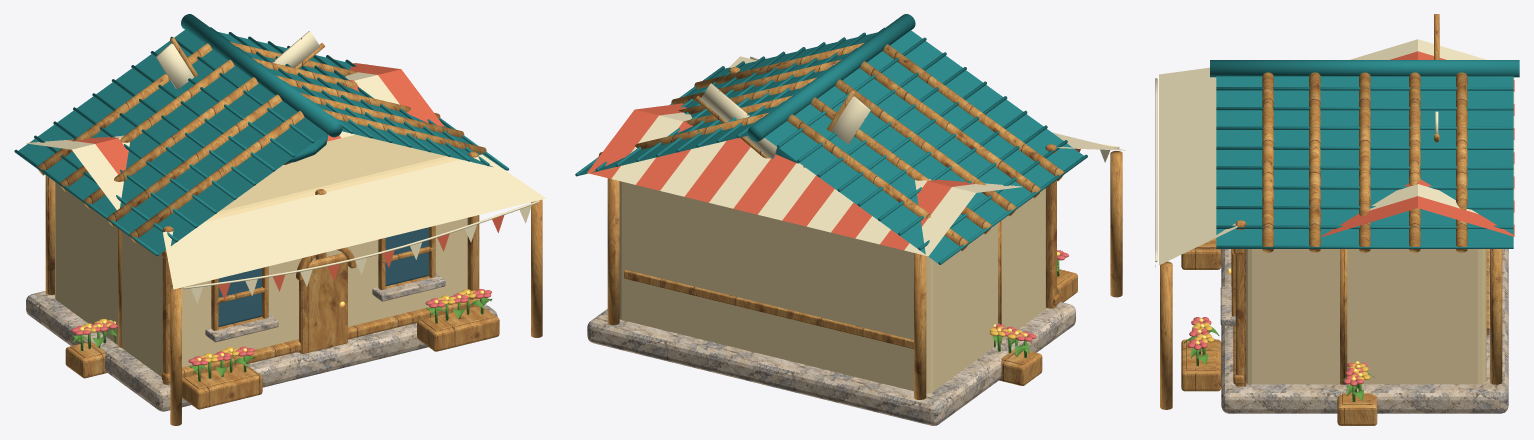
File: meadow-circuit-venues-v1.glb
3 views of the same model, side by side, from view 1: azimuth 30°, elevation 25°; view 2: azimuth 150°, elevation 25°; view 3: azimuth 270°, elevation 25° (orthographic). The views are drawn at different scales.
Parts seen in each view (by area): view 1: clubhouse_TealTiles, clubhouse_CreamPlaster, clubhouse_CanopyIvory, clubhouse_DarkTimber, clubhouse_OakGrain, clubhouse_WeatheredStone, clubhouse_DarkGlass, grandstand_CanopyIvory, grandstand_WorldAccent, grandstand_OakGrain, landmark_CanopyIvory, clubhouse_SoftLeaf (+2 smaller); view 2: clubhouse_CreamPlaster, clubhouse_TealTiles, clubhouse_WeatheredStone, clubhouse_DarkTimber, grandstand_WorldAccent, grandstand_CanopyIvory, grandstand_OakGrain, clubhouse_OakGrain, landmark_CanopyIvory, clubhouse_CanopyIvory, landmark_DarkTimber; view 3: clubhouse_TealTiles, clubhouse_CreamPlaster, clubhouse_DarkTimber, clubhouse_CanopyIvory, clubhouse_WeatheredStone, clubhouse_OakGrain, grandstand_OakGrain, grandstand_WorldAccent, grandstand_CanopyIvory, clubhouse_FlowerPink.
Boxes of the visible parts, <box> form: clubhouse_TealTiles: <box>14,14,508,256</box>; clubhouse_CreamPlaster: <box>55,134,467,376</box>; clubhouse_CanopyIvory: <box>163,154,546,303</box>; clubhouse_DarkTimber: <box>37,41,494,389</box>; clubhouse_OakGrain: <box>170,199,542,425</box>; clubhouse_WeatheredStone: <box>26,273,497,411</box>; clubhouse_DarkGlass: <box>218,227,428,326</box>; grandstand_CanopyIvory: <box>26,72,399,209</box>; grandstand_WorldAccent: <box>67,63,444,181</box>; grandstand_OakGrain: <box>45,175,121,378</box>; landmark_CanopyIvory: <box>155,31,319,89</box>; clubhouse_SoftLeaf: <box>189,297,491,381</box>; clubhouse_CreamPlaster: <box>619,181,1045,393</box>; clubhouse_TealTiles: <box>575,14,1087,264</box>; clubhouse_WeatheredStone: <box>587,302,1075,425</box>; clubhouse_DarkTimber: <box>598,42,1072,308</box>; grandstand_WorldAccent: <box>587,103,974,250</box>; grandstand_CanopyIvory: <box>611,112,1022,256</box>; grandstand_OakGrain: <box>607,167,1042,399</box>; clubhouse_OakGrain: <box>1057,151,1122,302</box>; landmark_CanopyIvory: <box>700,83,870,158</box>; clubhouse_CanopyIvory: <box>729,56,1125,162</box>; landmark_DarkTimber: <box>695,90,855,167</box>; clubhouse_TealTiles: <box>1210,60,1519,248</box>; clubhouse_CreamPlaster: <box>1246,249,1486,384</box>; clubhouse_DarkTimber: <box>1186,72,1467,386</box>; clubhouse_CanopyIvory: <box>1155,67,1237,267</box>; clubhouse_WeatheredStone: <box>1220,249,1508,413</box>; clubhouse_OakGrain: <box>1160,249,1235,409</box>; grandstand_OakGrain: <box>1337,249,1502,425</box>; grandstand_WorldAccent: <box>1322,51,1514,236</box>; grandstand_CanopyIvory: <box>1350,39,1514,224</box>; clubhouse_FlowerPink: <box>1187,317,1211,349</box>.
Bounding box in the file's own units: 7.54 × 5.09 × 5.84.
Materials: 13 (3 with a texture image).
